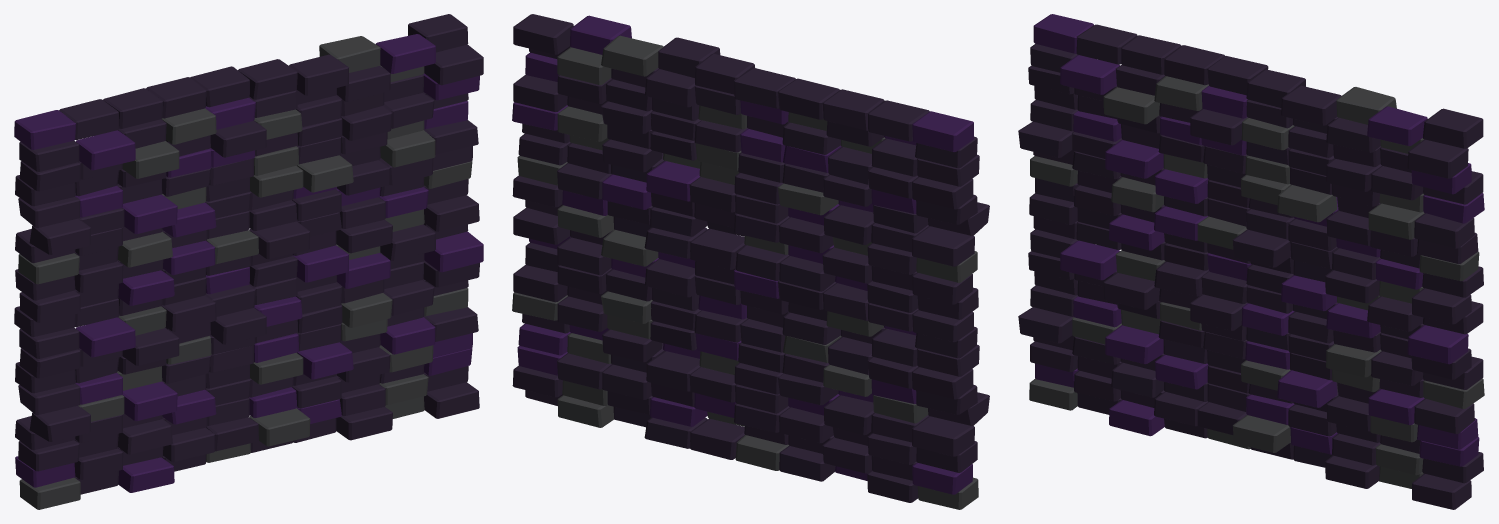
File: ParedeQuebrávelAzul.fbx
3 views of the same model, side by side, from view 1: azimuth 30°, elevation 25°; view 2: azimuth 150°, elevation 25°; view 3: azimuth 330°, elevation 25° (orthographic). The views are drawn at different scales.
Parts seen in each view (by area): view 1: ParedeTijolos; view 2: ParedeTijolos; view 3: ParedeTijolos.
Boxes of the visible parts, <box> form: ParedeTijolos: <box>14,14,483,509</box>; ParedeTijolos: <box>512,14,989,509</box>; ParedeTijolos: <box>1018,14,1484,509</box>.
Size of the model in its own units: 264 by 216 by 38.3.
